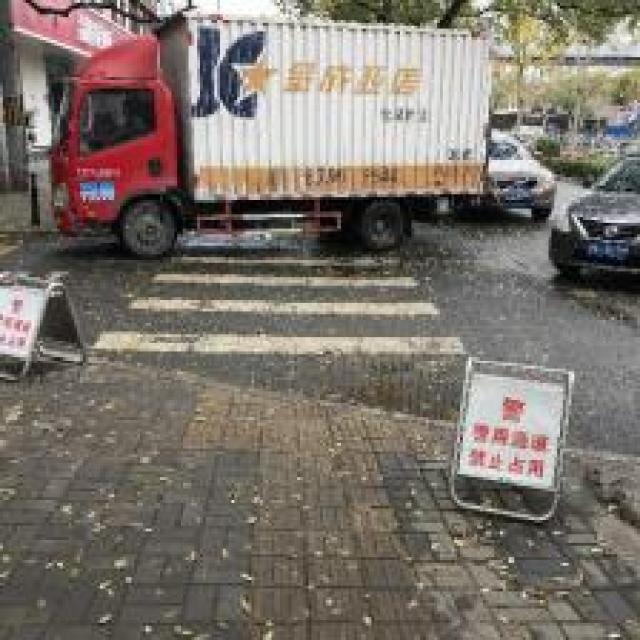walk-crossing: (157, 248, 472, 383)
